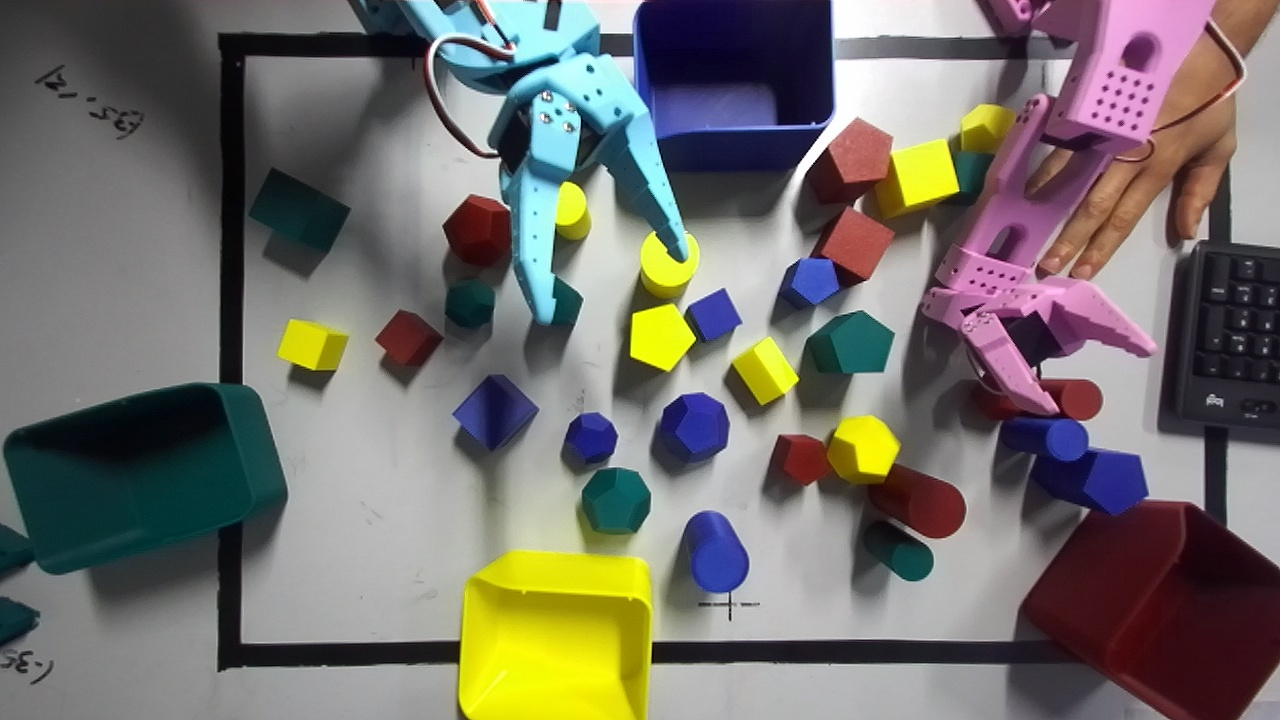bin: (1022, 499, 1279, 719), (4, 383, 286, 573), (634, 0, 833, 170), (458, 551, 651, 719)
cube: (248, 167, 349, 252), (874, 139, 958, 218), (452, 374, 538, 450), (812, 207, 894, 285), (375, 310, 443, 366), (277, 319, 348, 371), (685, 288, 741, 341)
cylinder: (868, 463, 965, 538), (682, 510, 748, 619), (863, 521, 933, 580), (999, 416, 1088, 461), (640, 232, 699, 298), (1039, 379, 1102, 420), (555, 181, 590, 239)
dodecahedron: (656, 392, 729, 462), (827, 415, 899, 483), (443, 194, 510, 266), (581, 467, 650, 533), (562, 412, 617, 464), (959, 104, 1015, 153), (444, 279, 494, 328)
hexagonal: (1030, 448, 1148, 514), (806, 118, 892, 203), (805, 311, 893, 373), (732, 336, 798, 405), (630, 304, 695, 371), (777, 258, 840, 309), (770, 434, 831, 485), (950, 151, 993, 204), (537, 277, 582, 326)
